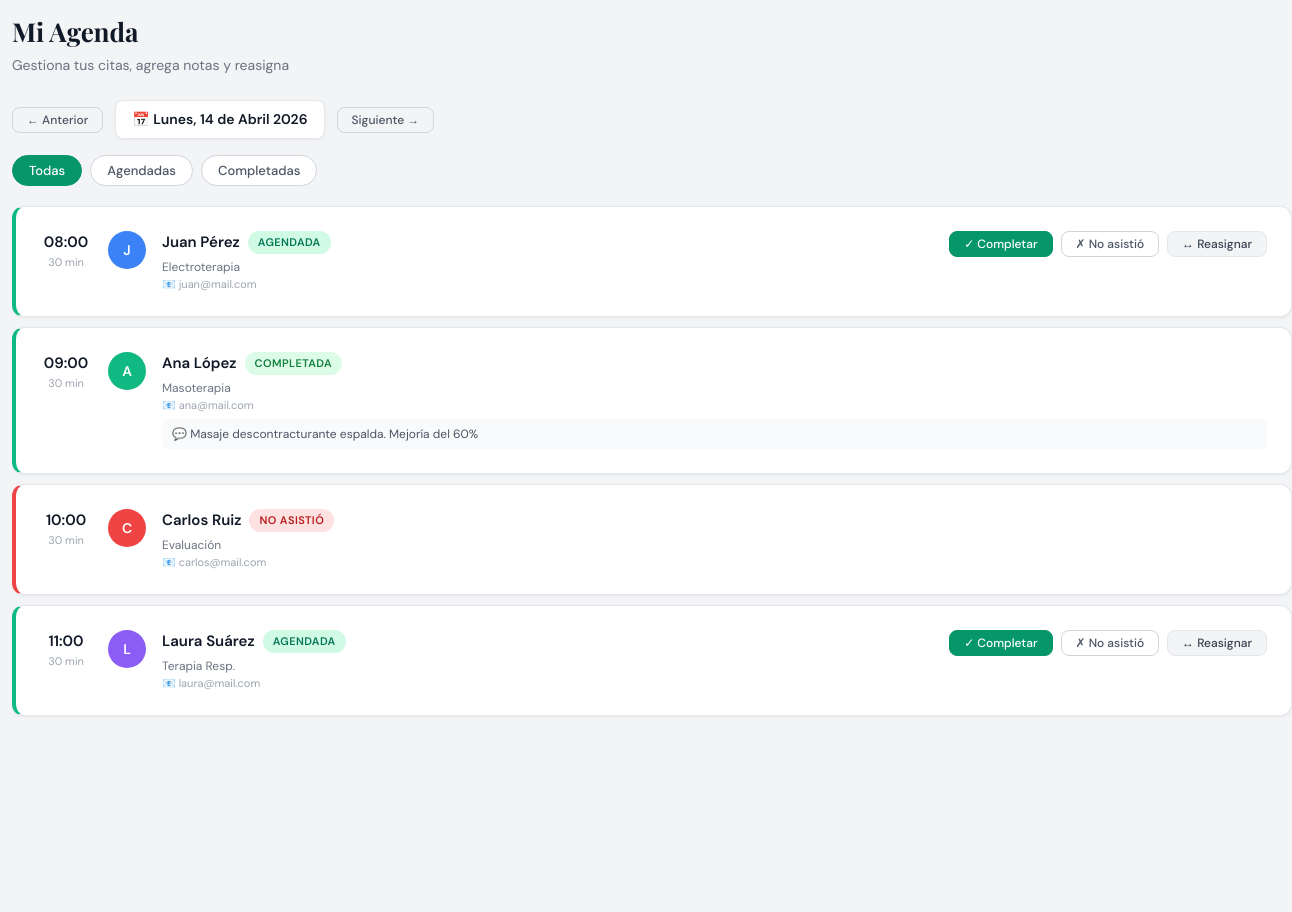
Test: <MiAgenda /> › filtra citas por "Completadas"
Click the button "Completadas": (259, 170) [201,155,317,186]
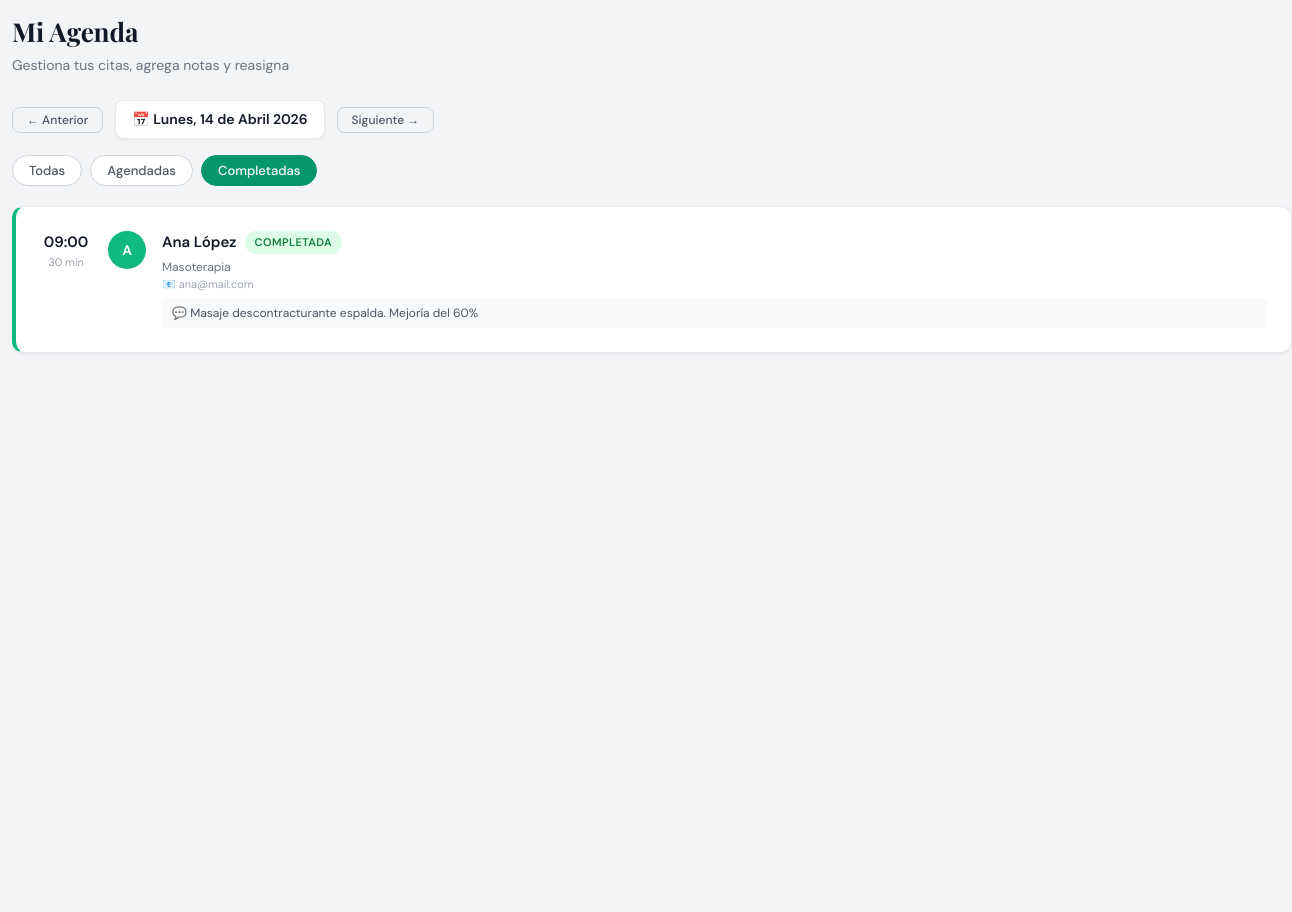
Now the text "Juan Pérez" is gone
Now the text "Carlos Ruiz" is gone
Now the text "Laura Suárez" is gone
